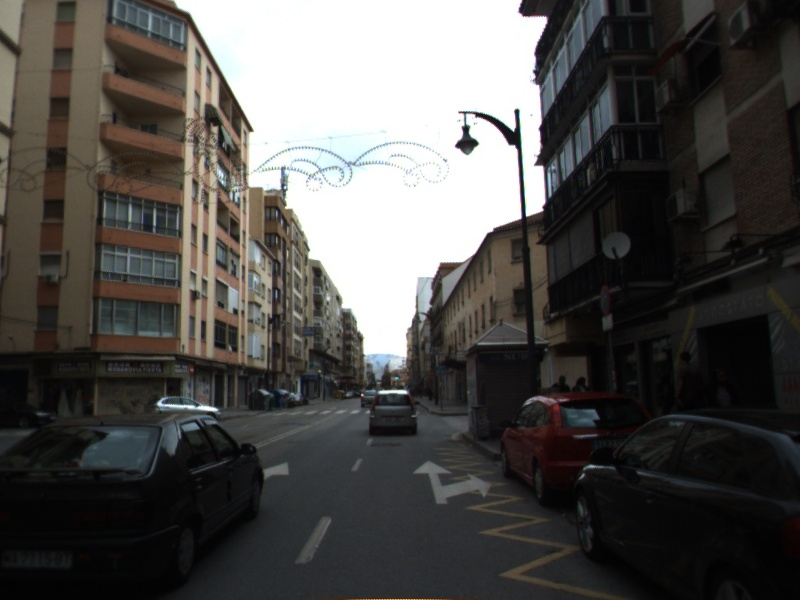STRAIGHT_RIGHT: (409, 457, 494, 507)
